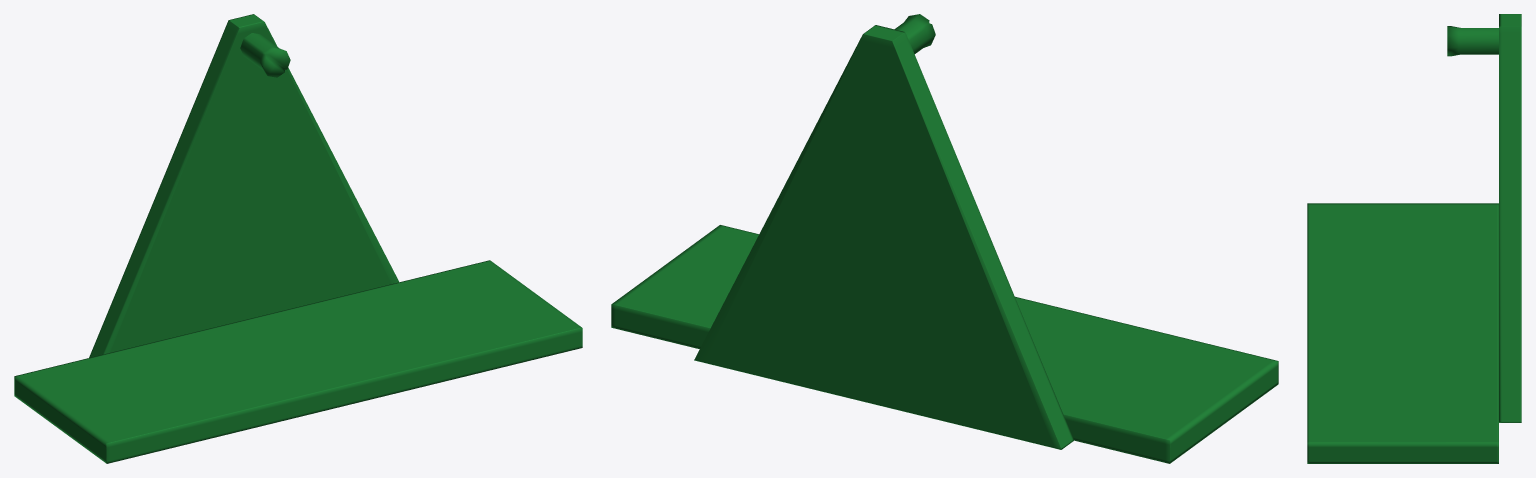
File: Env_Habitat_Object_HamsterWheel_Base.fbx
3 views of the same model, side by side, from view 1: azimuth 30°, elevation 25°; view 2: azimuth 150°, elevation 25°; view 3: azimuth 270°, elevation 25° (orthographic). The views are drawn at different scales.
Visible parts, largest first — view 1: BASE; view 2: BASE; view 3: BASE.
Boxes of the visible parts, box(x1,y1,x2,y2) form: BASE: box(14, 14, 582, 463); BASE: box(611, 14, 1278, 463); BASE: box(1307, 14, 1521, 463).
Bounding box in the file's own units: 15.69 × 9.86 × 5.92.
1 material, 1 textured.
